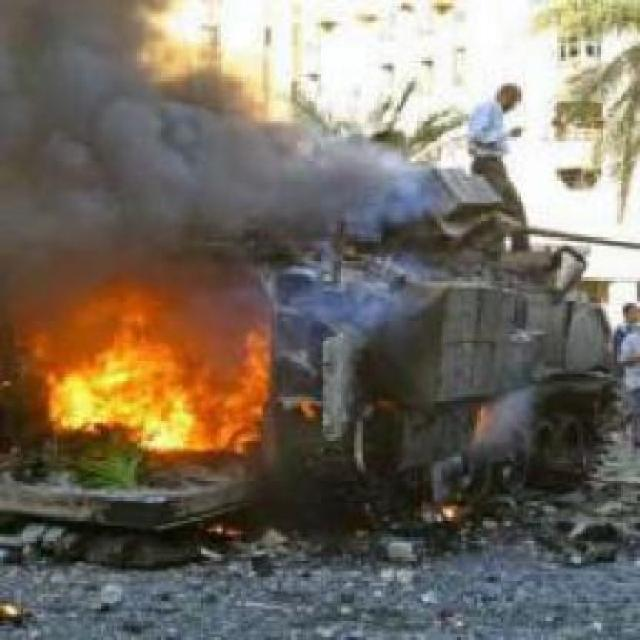Fire: (42, 287, 270, 453)
Smoke: (0, 0, 423, 282)
